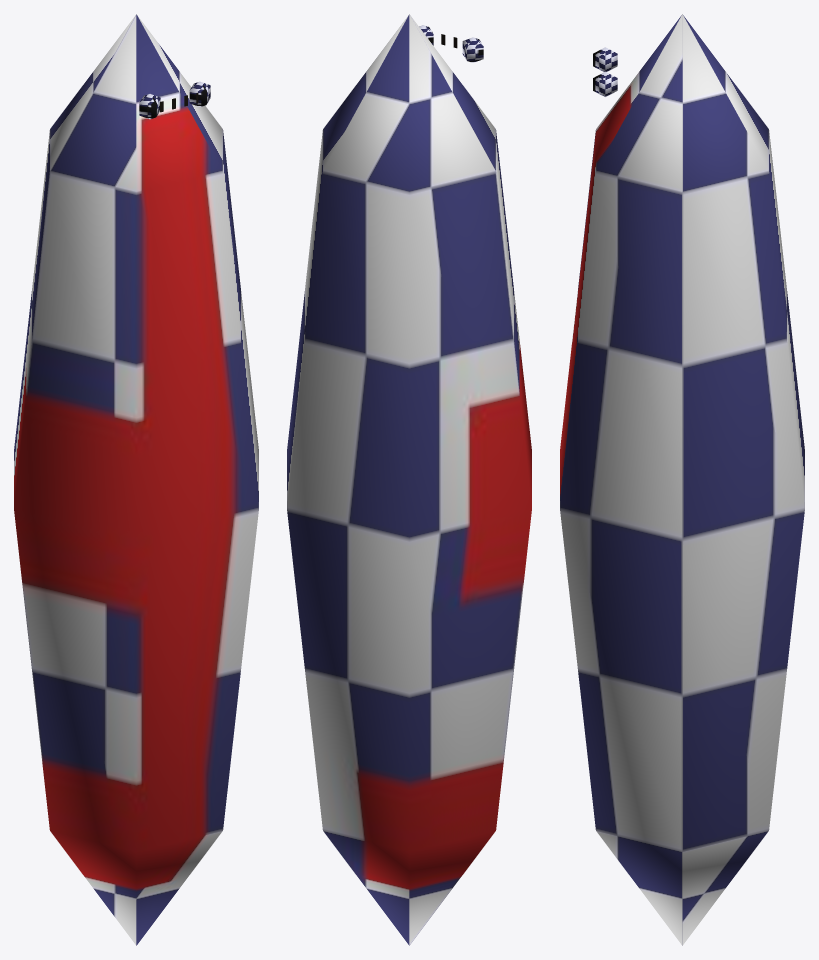
3 views of the same model, side by side, from view 1: azimuth 30°, elevation 25°; view 2: azimuth 150°, elevation 25°; view 3: azimuth 270°, elevation 25° (orthographic).
Visible parts, largest first — view 1: body; view 2: body; view 3: body.
Boxes of the visible parts, box(x1,y1,x2,y2) form: body: box(14, 14, 258, 945); body: box(287, 14, 531, 945); body: box(560, 14, 804, 945).
Bounding box in the file's own units: 0.44 × 1.6 × 0.3811.
Materials: 3 (3 with a texture image).
